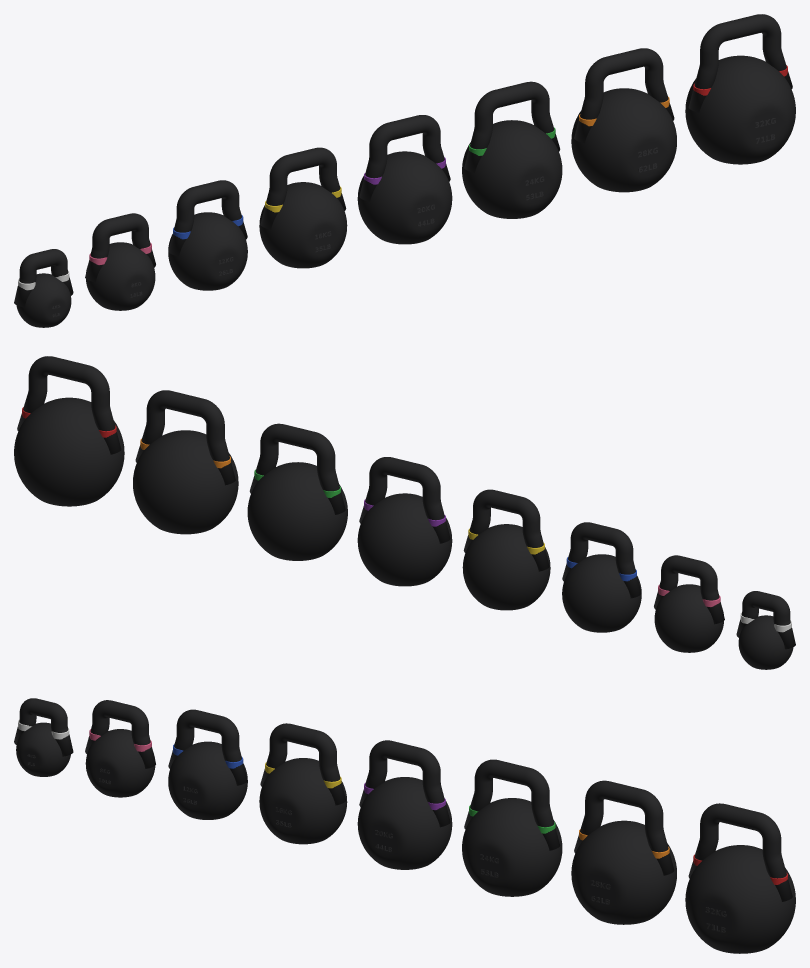
File: life-fitness-cast-iron-kettlebells_v004.glb
3 views of the same model, one above another, from view 1: azimuth 30°, elevation 25°; view 2: azimuth 150°, elevation 25°; view 3: azimuth 330°, elevation 25° (orthographic).
Parts seen in each view (by area): view 1: life-fitness-cast-iron-kettlebells_iron, life-fitness-cast-iron-kettlebells_iron.001, life-fitness-cast-iron-kettlebells_ink; view 2: life-fitness-cast-iron-kettlebells_iron, life-fitness-cast-iron-kettlebells_iron.001; view 3: life-fitness-cast-iron-kettlebells_iron, life-fitness-cast-iron-kettlebells_iron.001, life-fitness-cast-iron-kettlebells_ink.
Boxes of the visible parts, bbox=[...] form: life-fitness-cast-iron-kettlebells_iron: bbox=[16, 55, 795, 327]; life-fitness-cast-iron-kettlebells_iron.001: bbox=[14, 14, 792, 307]; life-fitness-cast-iron-kettlebells_ink: bbox=[52, 118, 775, 317]; life-fitness-cast-iron-kettlebells_iron: bbox=[14, 397, 793, 669]; life-fitness-cast-iron-kettlebells_iron.001: bbox=[17, 356, 795, 649]; life-fitness-cast-iron-kettlebells_iron: bbox=[16, 722, 795, 953]; life-fitness-cast-iron-kettlebells_iron.001: bbox=[14, 698, 792, 901]; life-fitness-cast-iron-kettlebells_ink: bbox=[27, 754, 726, 932].
Bounding box in the file's own units: 2.05 × 0.3318 × 0.2405.
